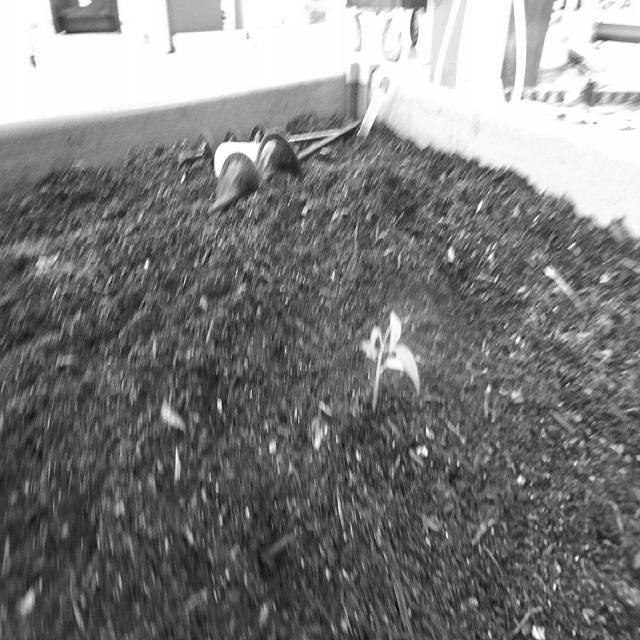Healthy: (356, 308, 424, 413)
